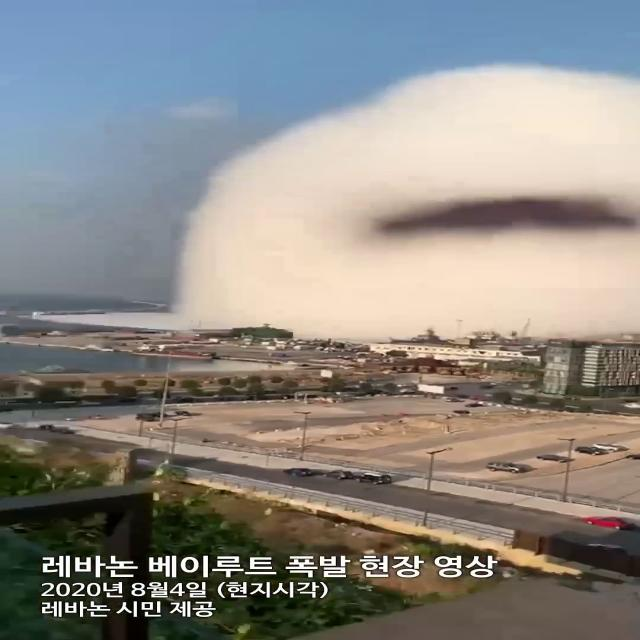explosion: (179, 58, 640, 360)
